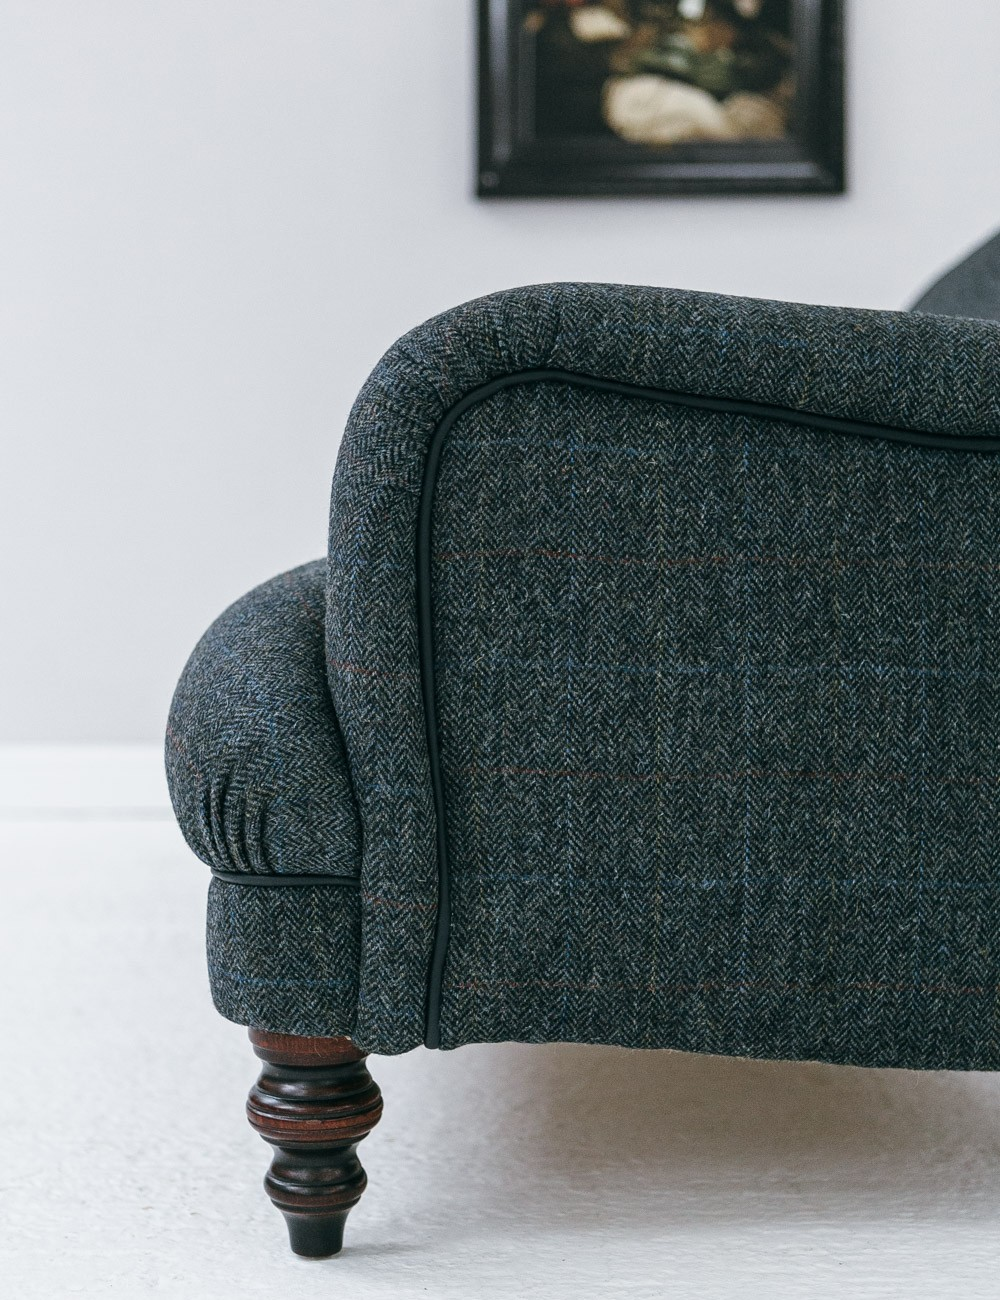chairs: (159, 225, 1000, 1260)
